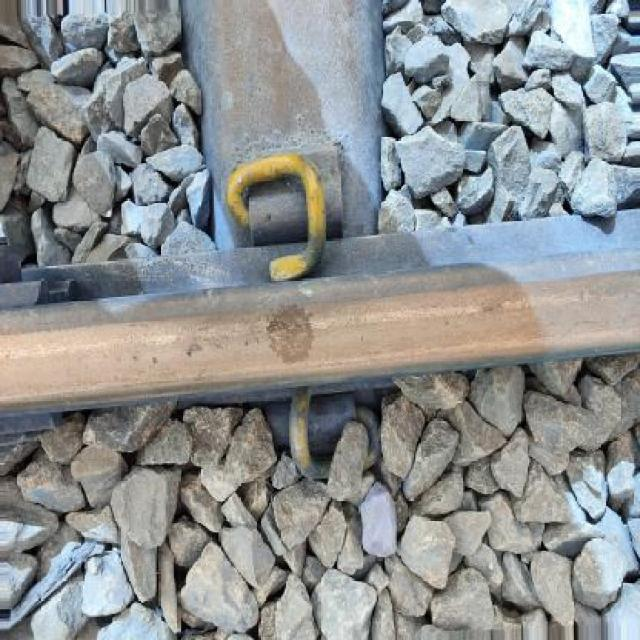non-defective: (0, 198, 638, 449)
